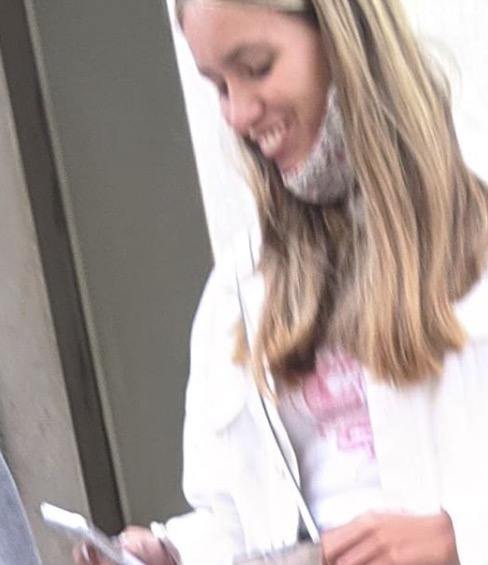mask_weared_incorrect: (184, 23, 371, 192)
